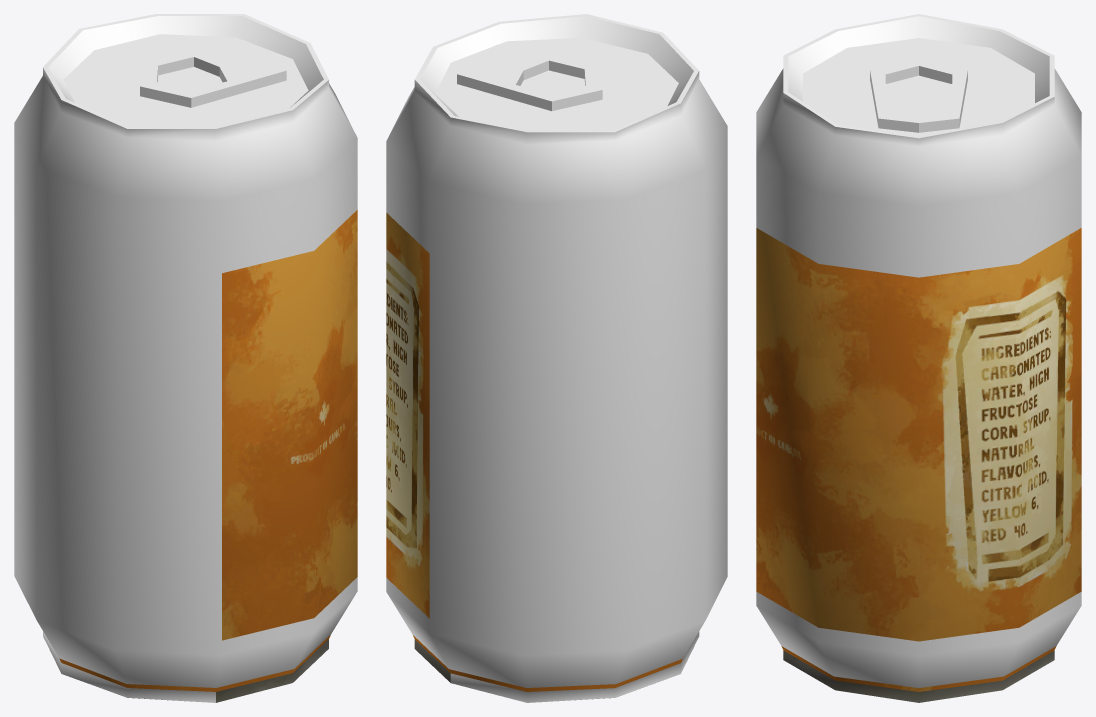
Rendered from GEAR_SodaOrange.glb.
3 views of the same model, side by side, from view 1: azimuth 30°, elevation 25°; view 2: azimuth 150°, elevation 25°; view 3: azimuth 270°, elevation 25° (orthographic).
Parts seen in each view (by area): view 1: FoodSodaCan_Old, FoodSodaCan_LOD0; view 2: FoodSodaCan_Old, FoodSodaCan_LOD0; view 3: FoodSodaCan_LOD0, FoodSodaCan_Old.
Boxes of the visible parts, x1=… form: FoodSodaCan_Old: x1=14, y1=14, x2=357, y2=702; FoodSodaCan_LOD0: x1=43, y1=210, x2=357, y2=702; FoodSodaCan_Old: x1=386, y1=14, x2=727, y2=702; FoodSodaCan_LOD0: x1=386, y1=213, x2=698, y2=701; FoodSodaCan_LOD0: x1=756, y1=228, x2=1081, y2=702; FoodSodaCan_Old: x1=756, y1=14, x2=1081, y2=687.
Size of what is drawn, in the model's own units: 0.0753 by 0.1382 by 0.0716.
3 materials, 2 textured.
